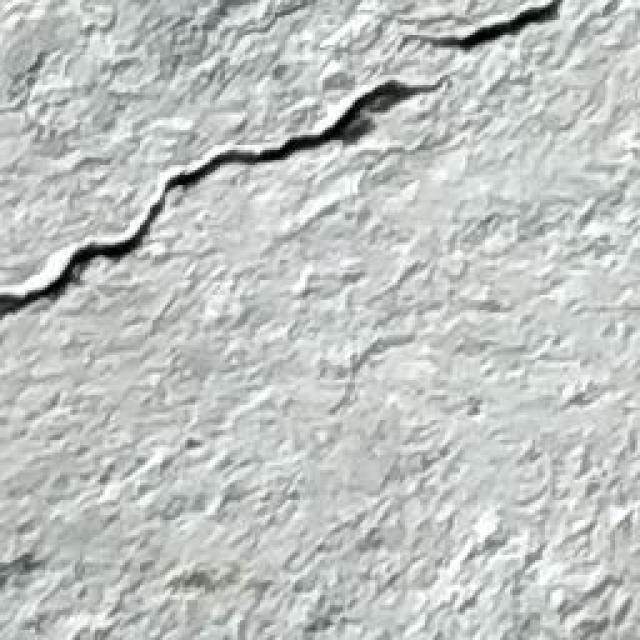Diagonal: (0, 0, 568, 318)
